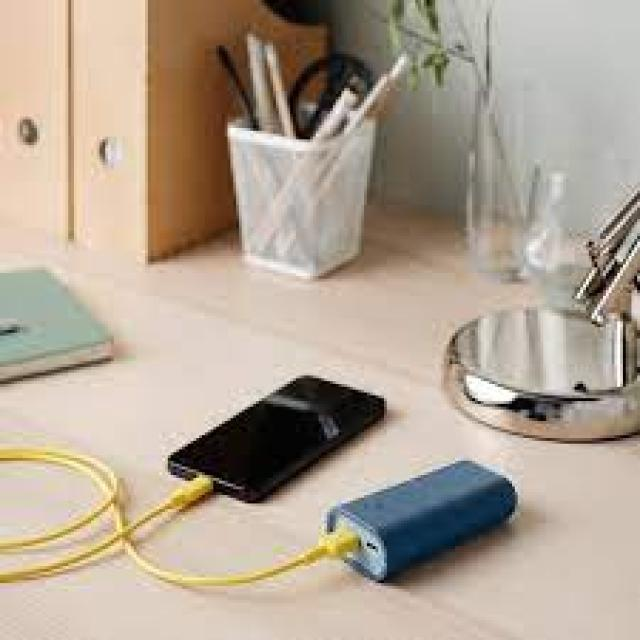power_bank: (317, 453, 530, 599)
